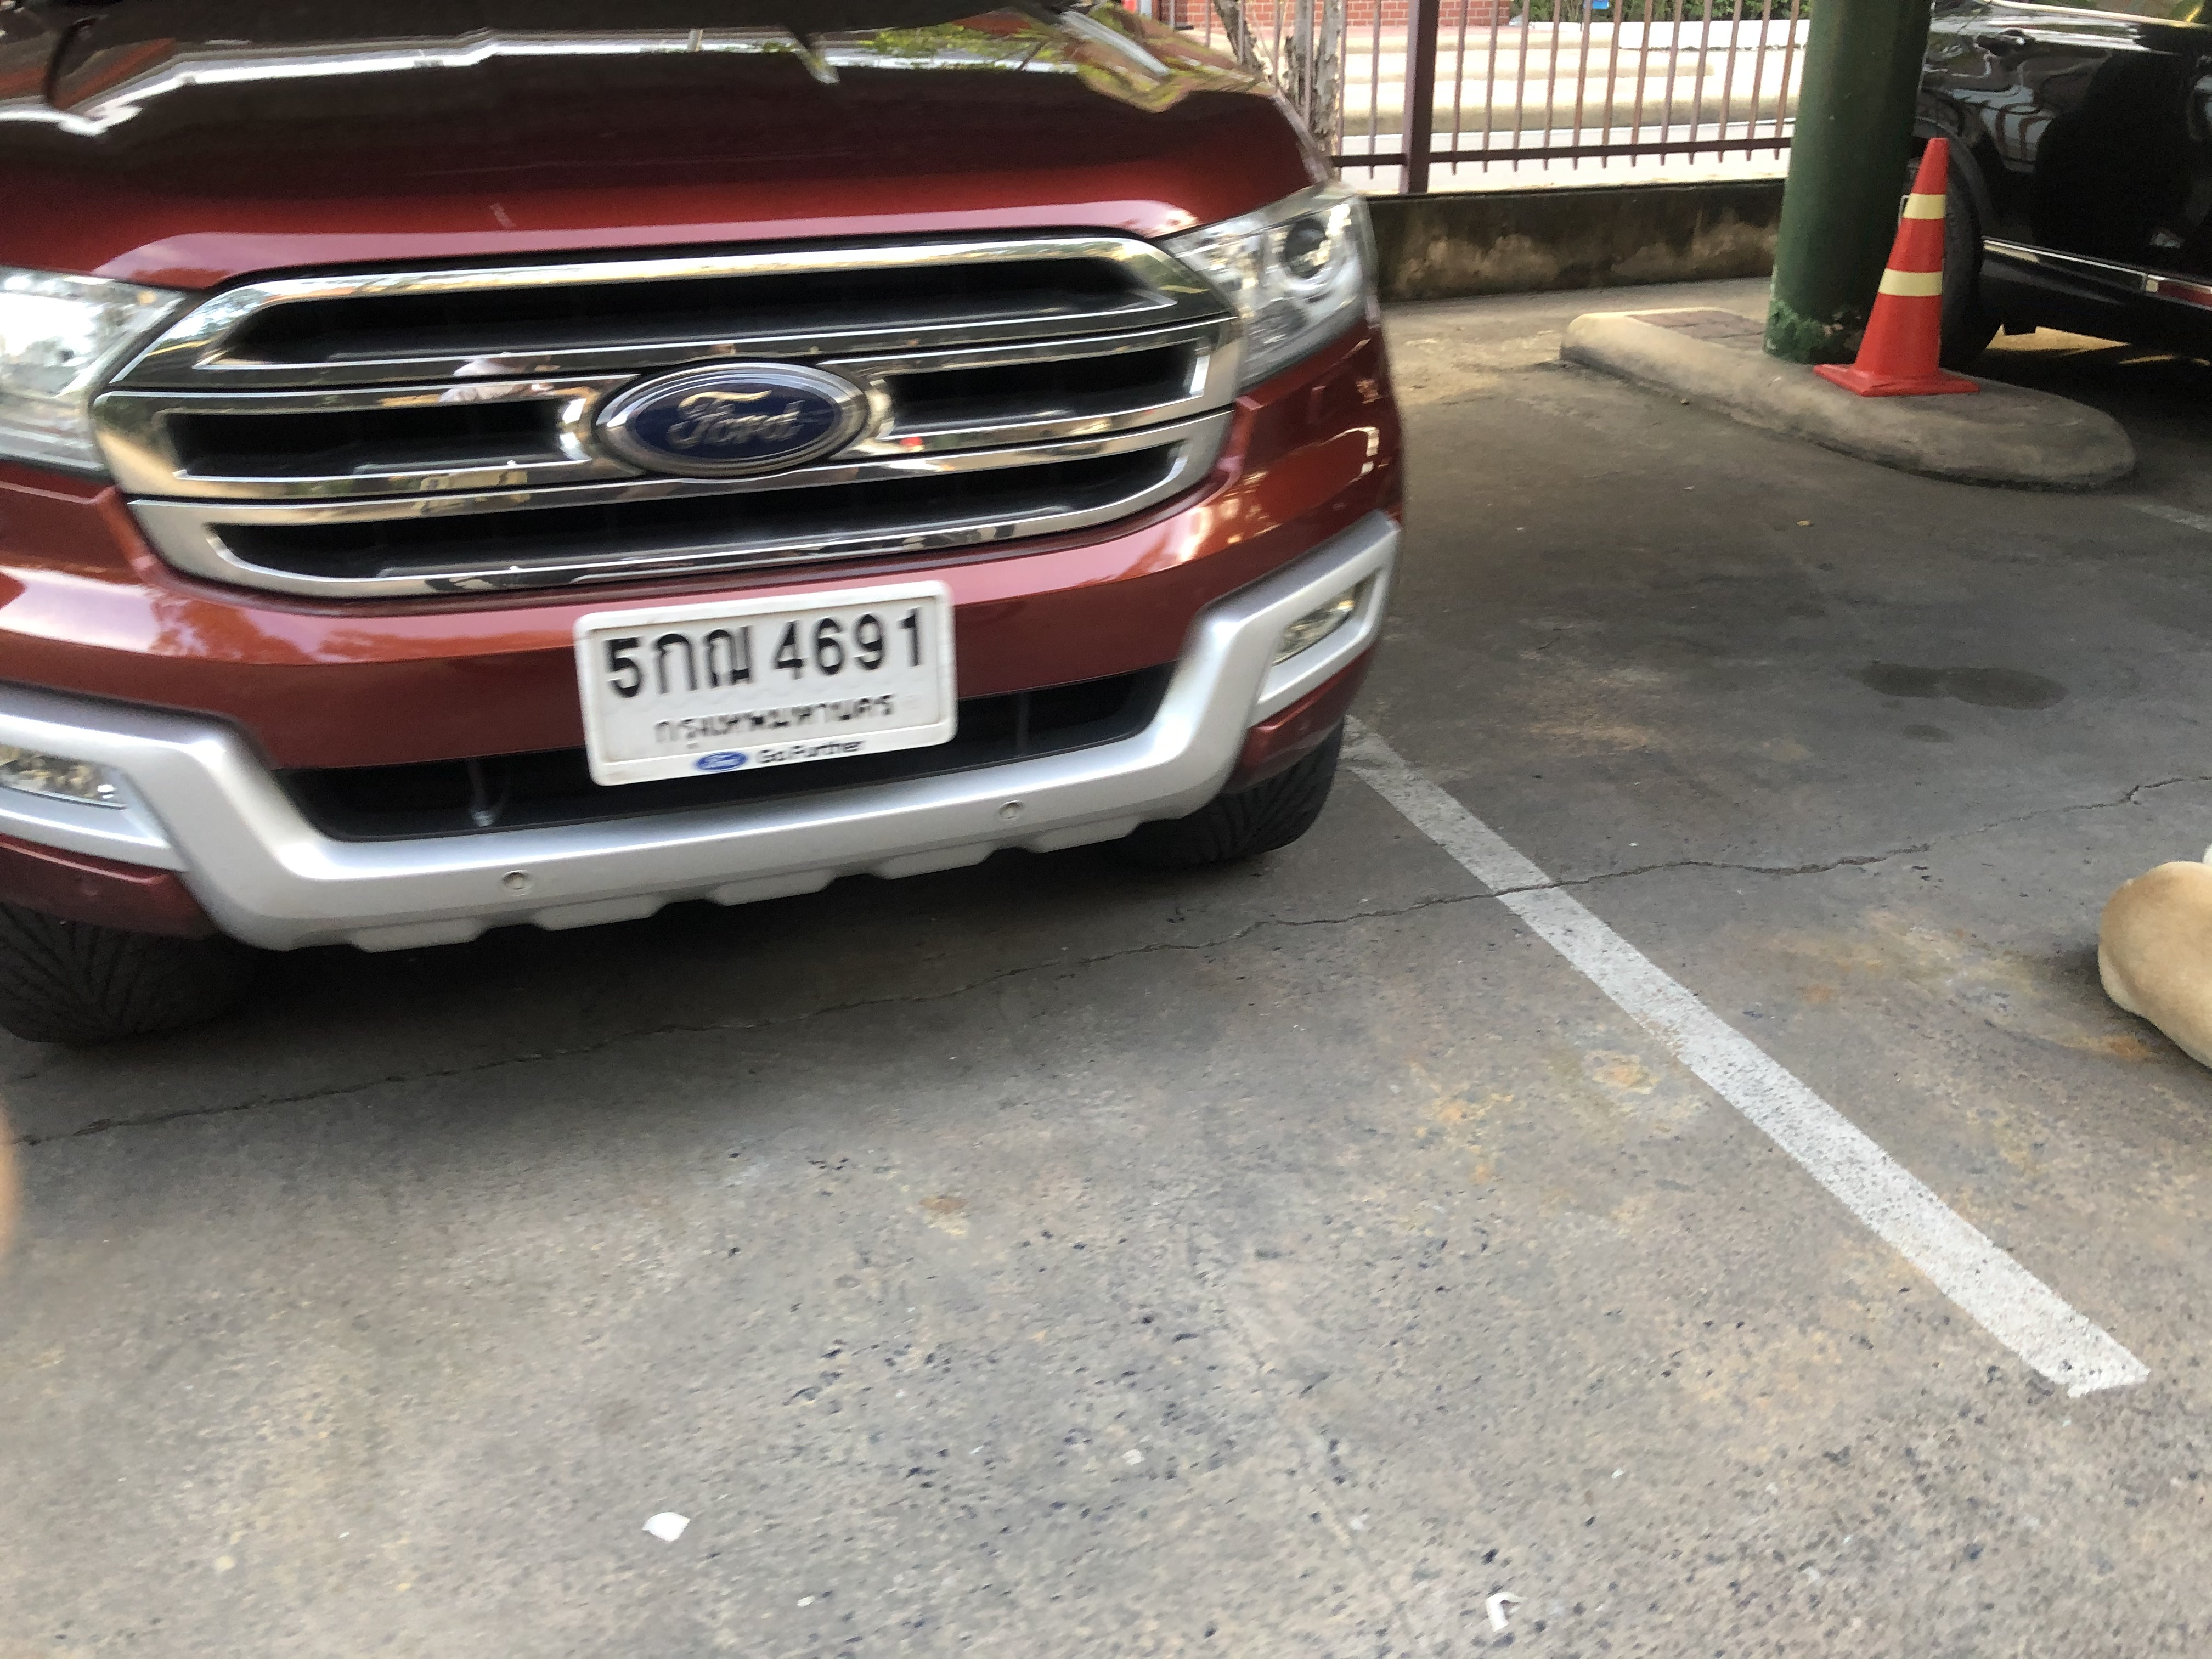in: (589, 599, 951, 756)
out: (564, 582, 970, 793)
